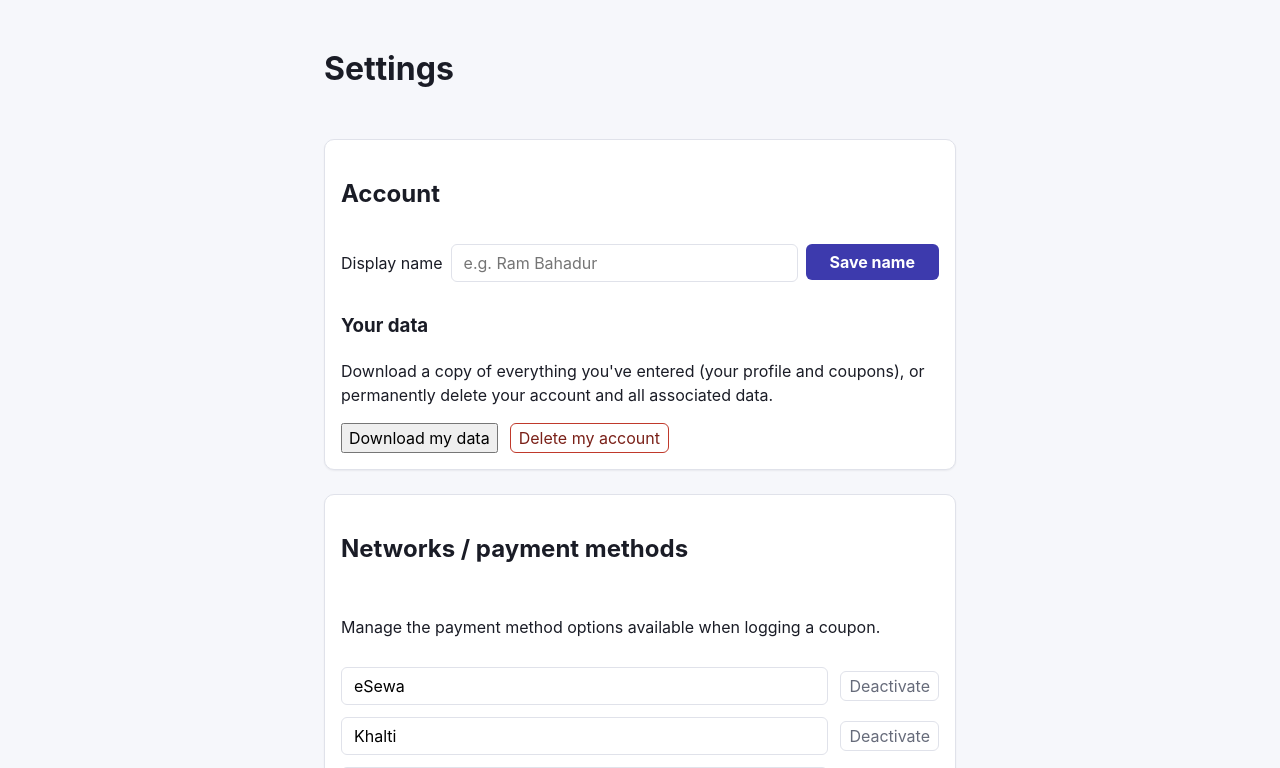
Test: Settings page › cancels account deletion without deleting anything
This screenshot has width=1280, height=768.
Expected: the 1st field showing "eSewa" is shown, [341,667,828,705]
Click the button "Delete my account".
click(589, 438)  # box [510,423,669,453]
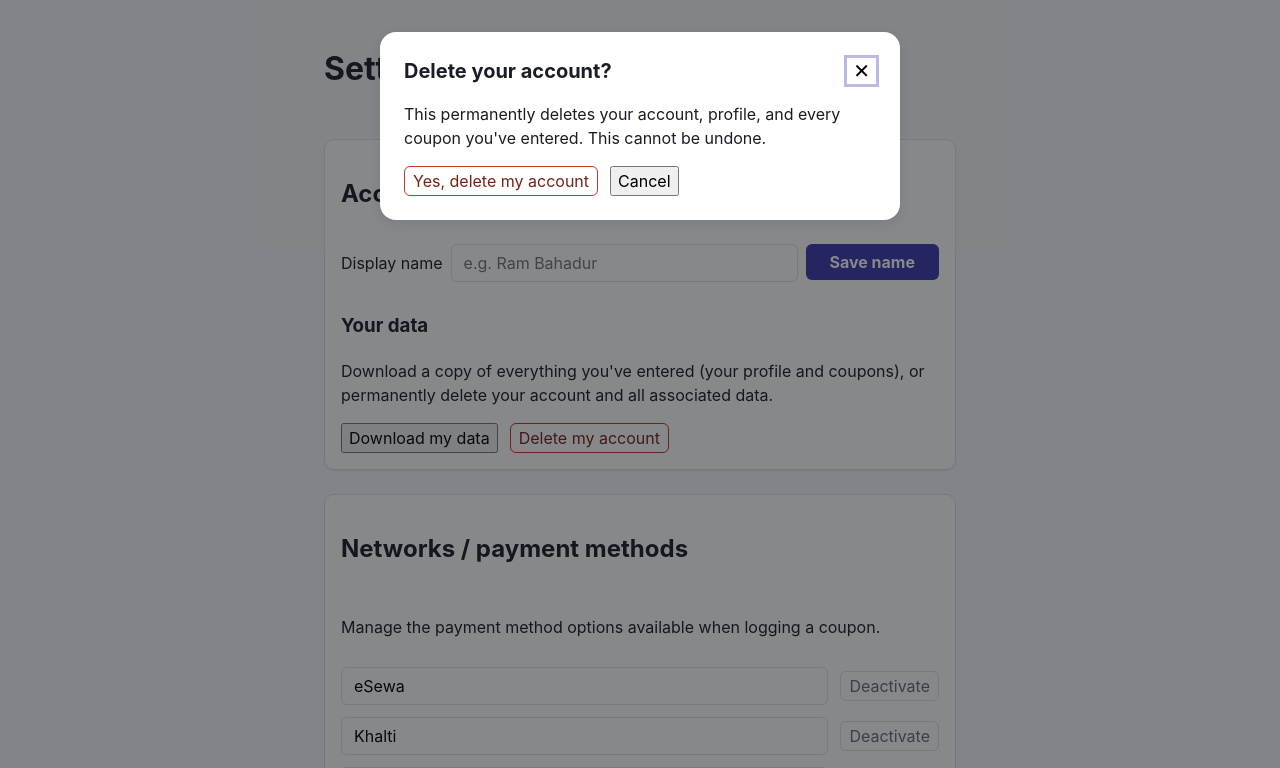
Expected: the dialog "Delete your account" is shown, [380,32,900,220]
Click the button "Cancel".
click(644, 181)  # box [610,166,678,196]
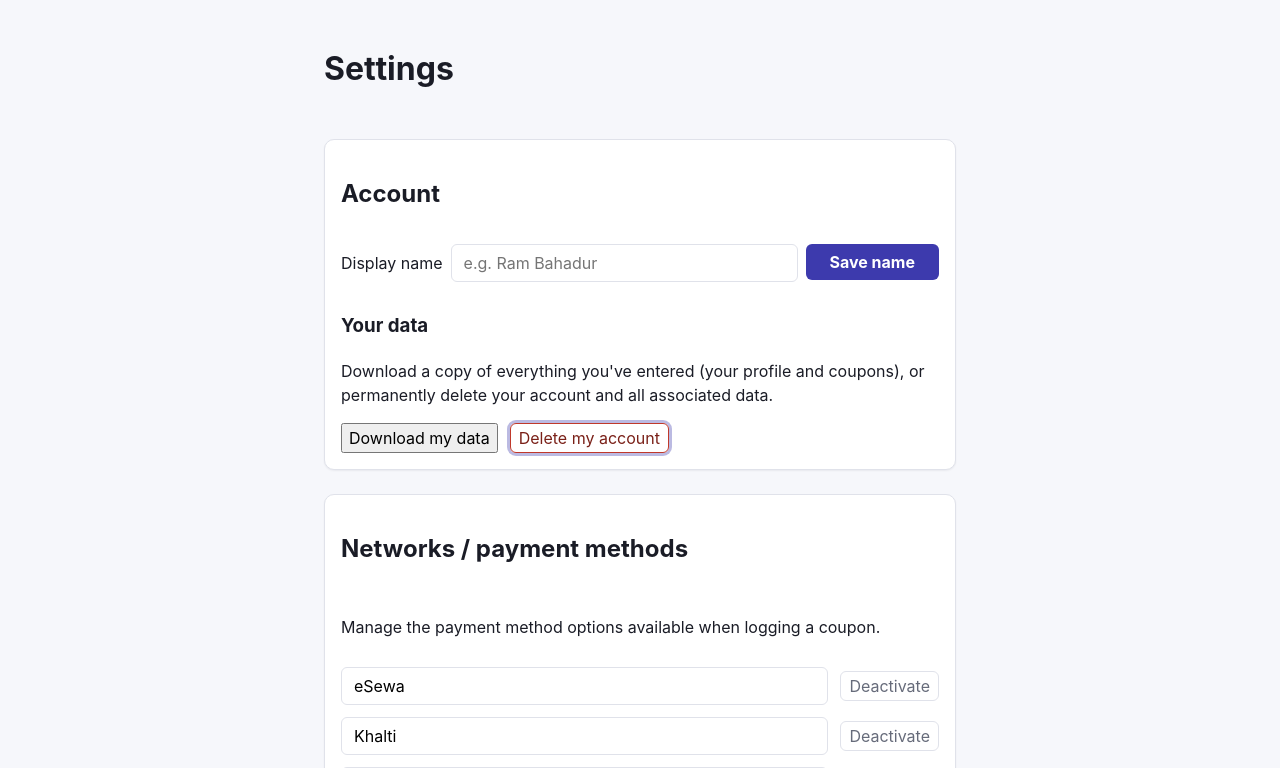
Expected: the dialog is gone
